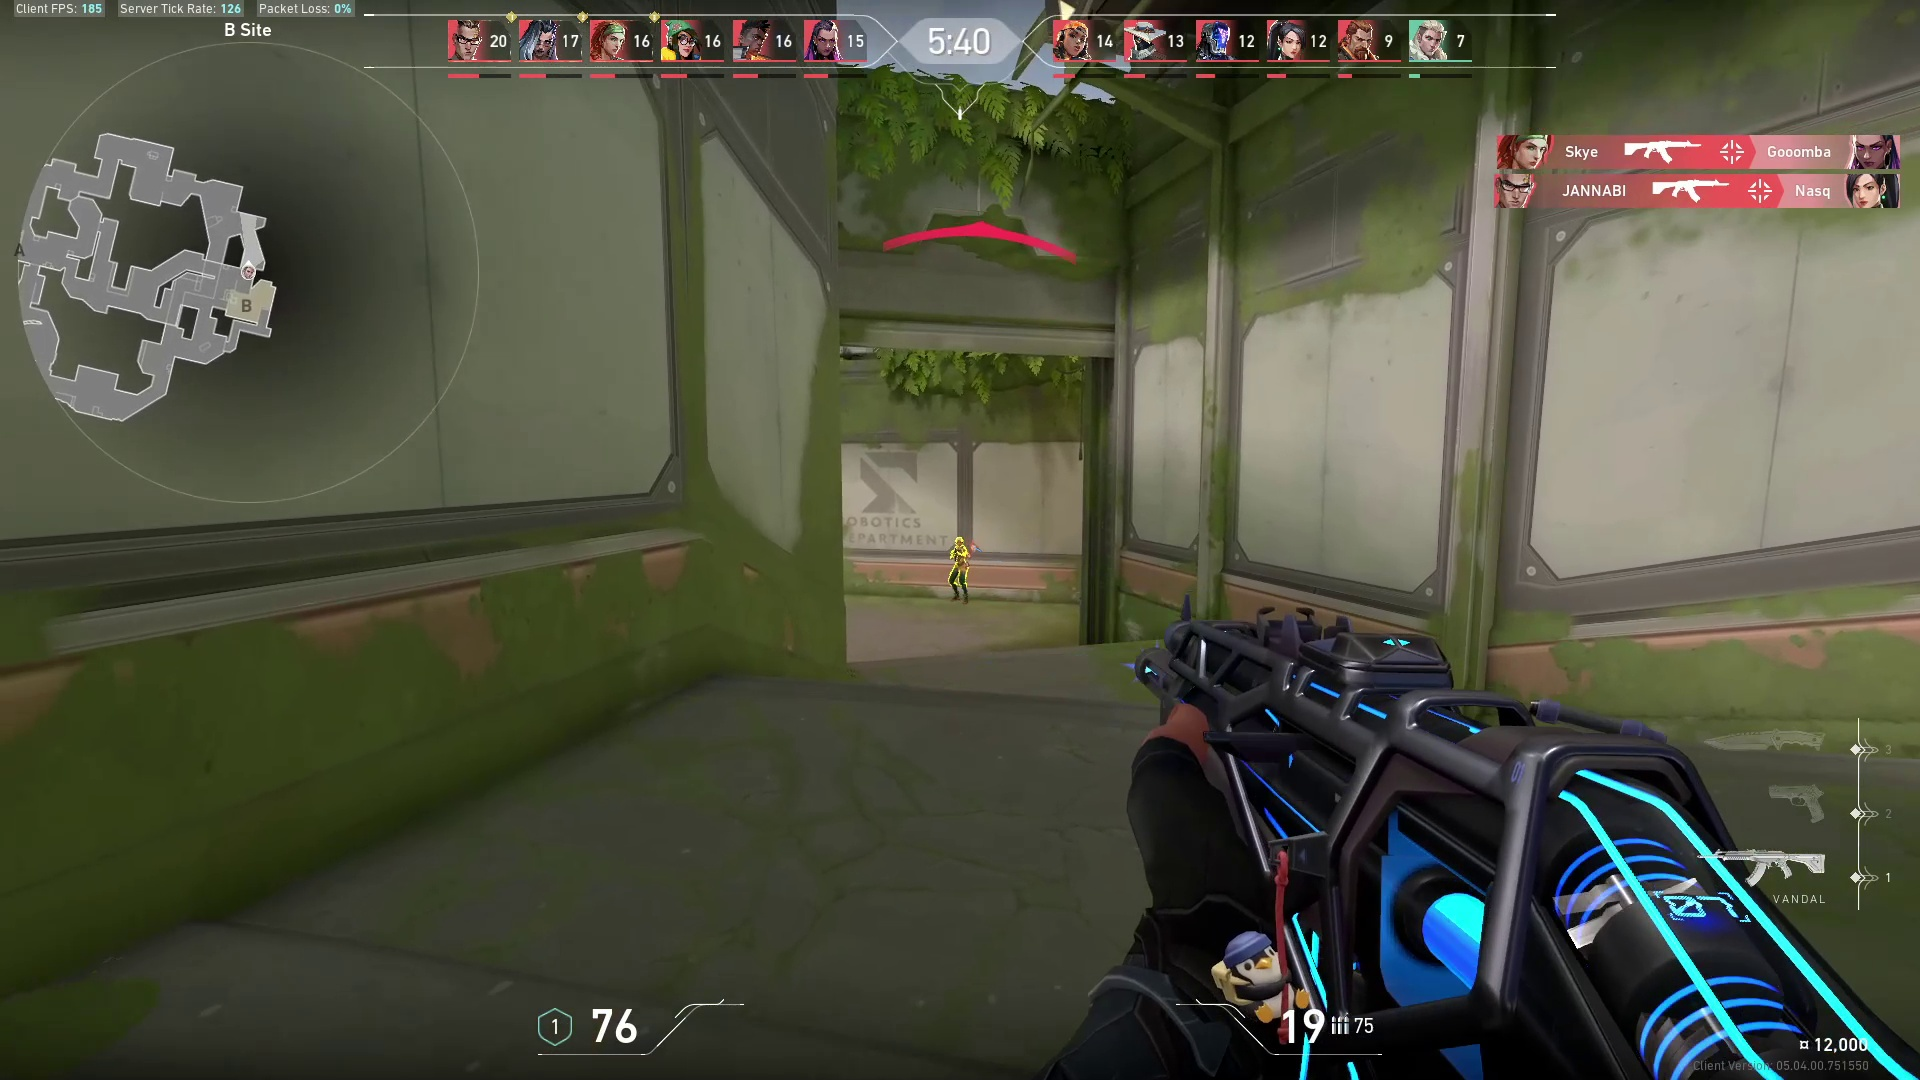enemy_body: (949, 548, 972, 605)
enemy_head: (953, 535, 965, 548)
